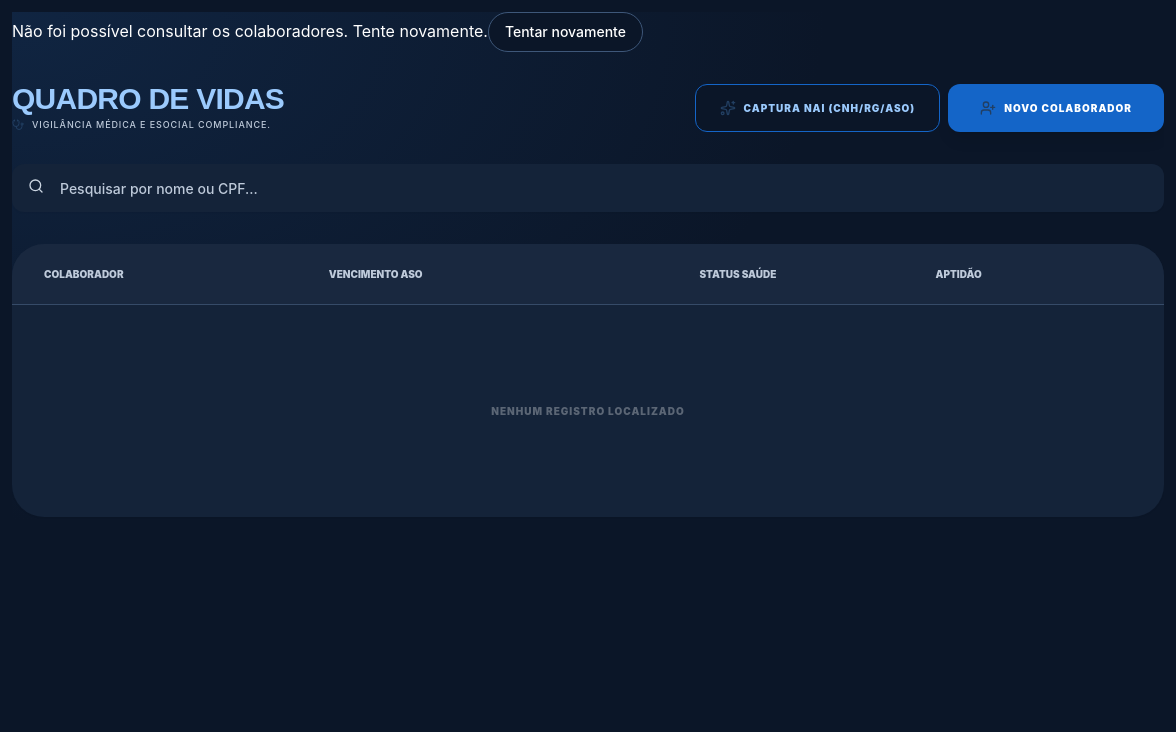
Test: employee directory › shows query failure and retries
The width and height of the screenshot is (1176, 732).
Click the button "Tentar novamente". click: (565, 32)
box: [488,12,643,52]
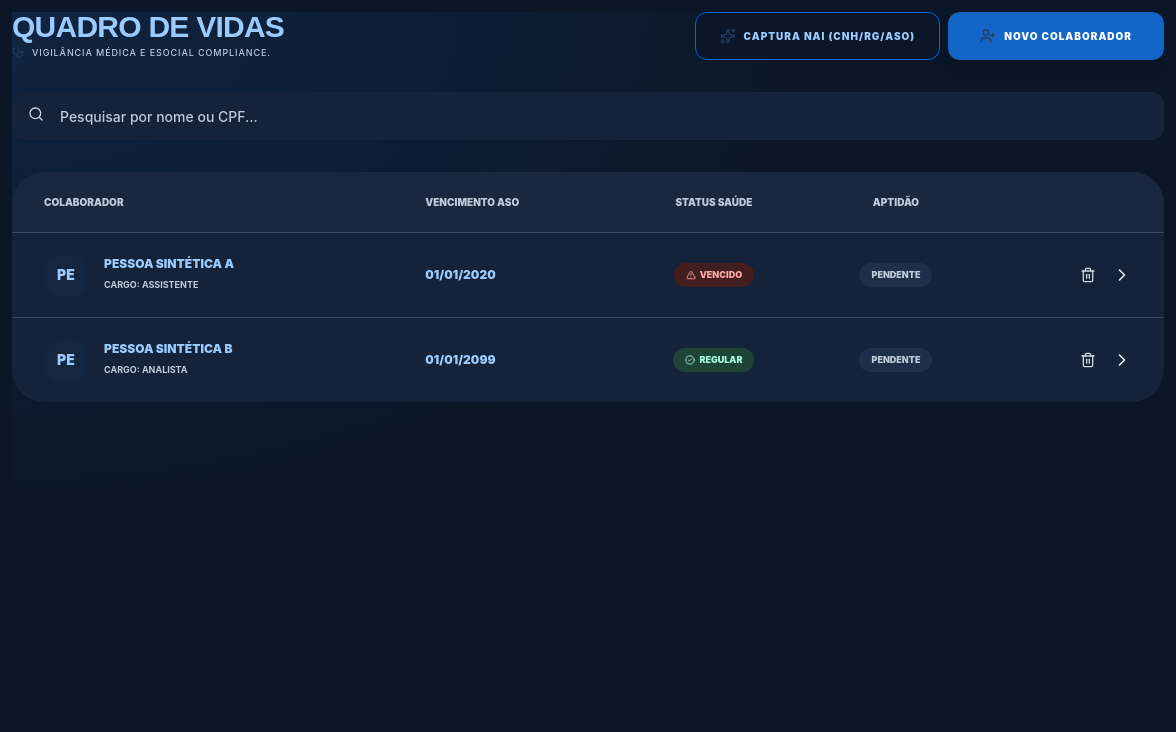
expect the text "Pessoa sintética A" is shown: met, box [104,256,234,270]
